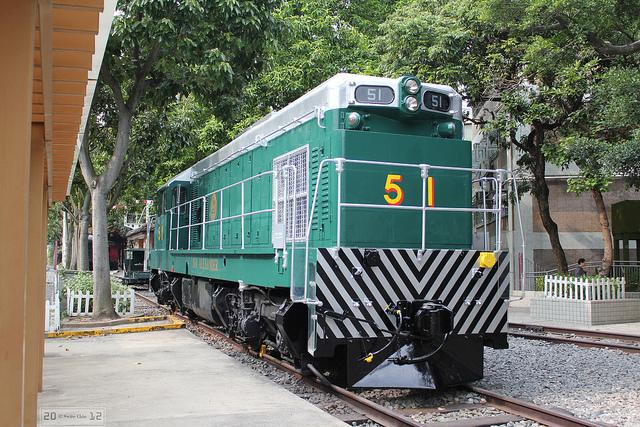Train: (149, 74, 527, 396)
